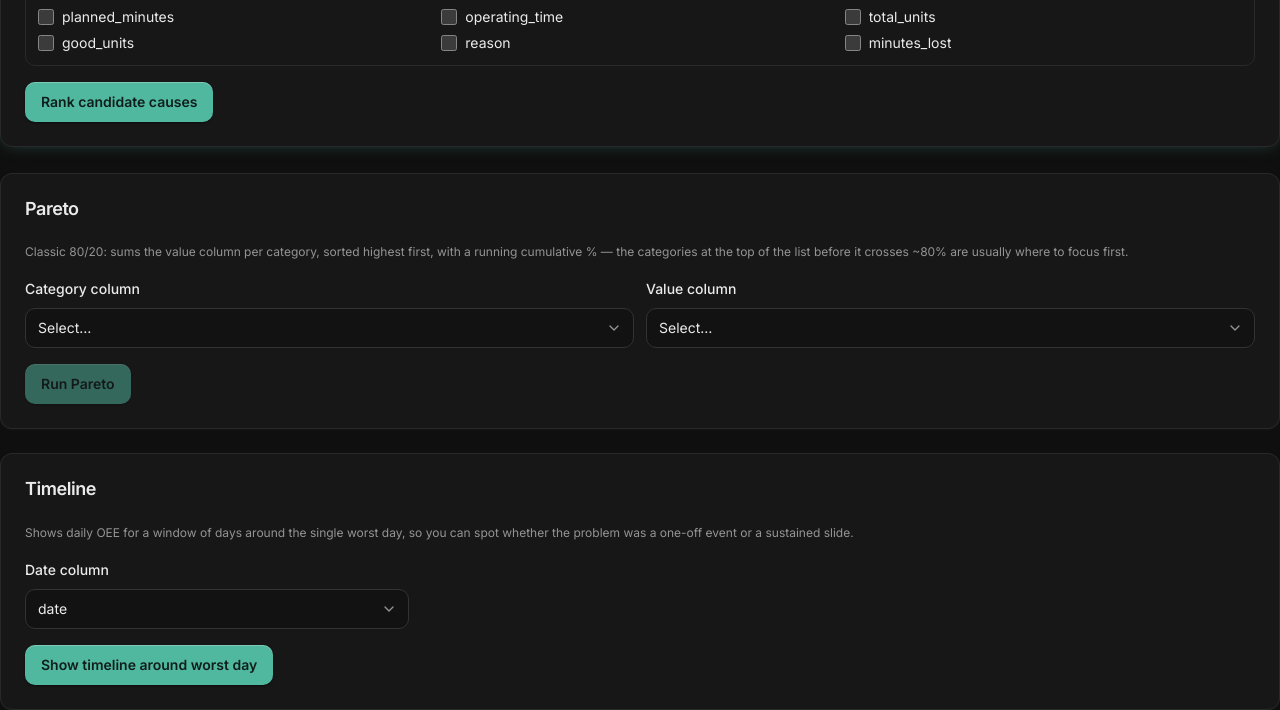
Scenario: Analysis › shows a timeline around the worst day
This screenshot has width=1280, height=710.
(page scrolled)
Click the button "Show timeline around worst day". click: (149, 664)
box: [25,644,273,684]
(page scrolled)
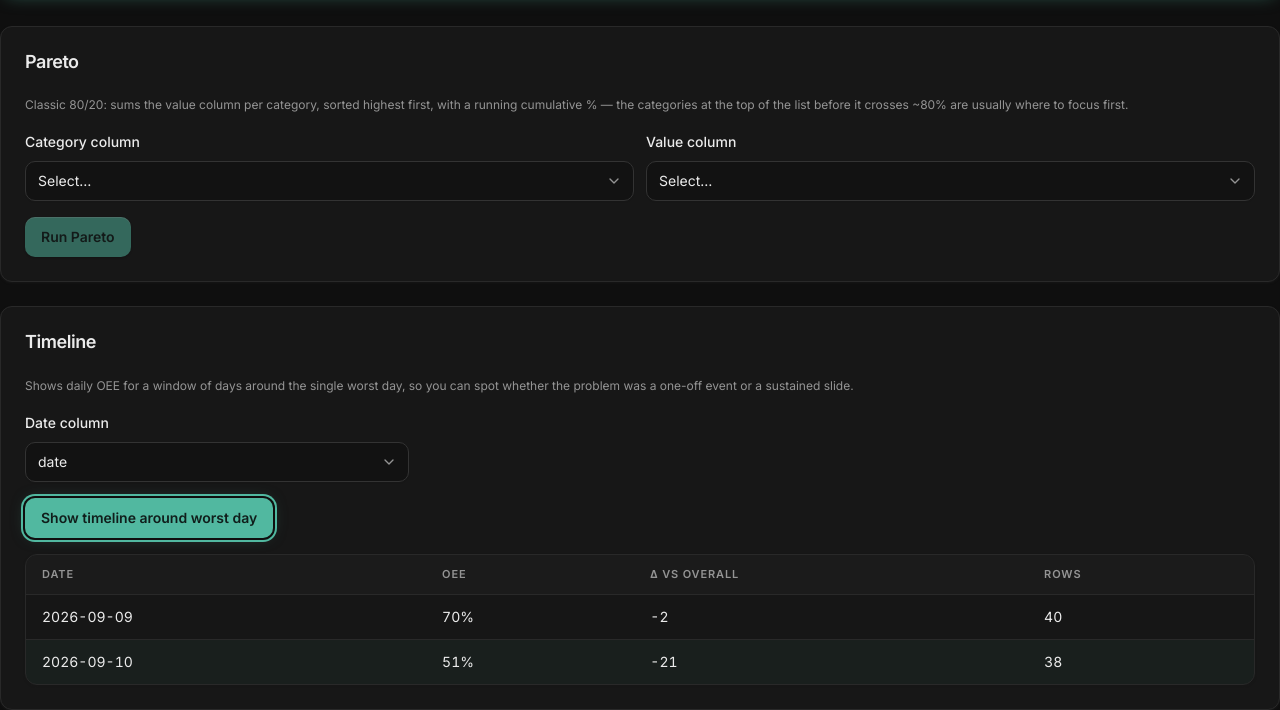
Result: the text "2026-09-10" is shown at [26,640,426,684]
Result: the text "-21" is shown at [634,640,1028,684]
